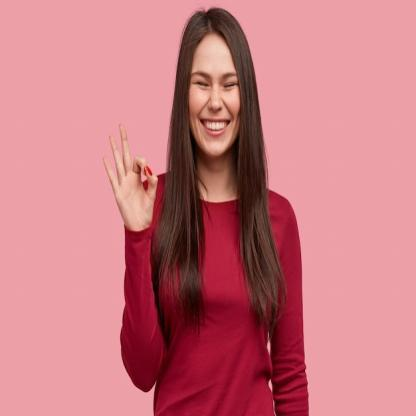ok: (97, 118, 160, 236)
